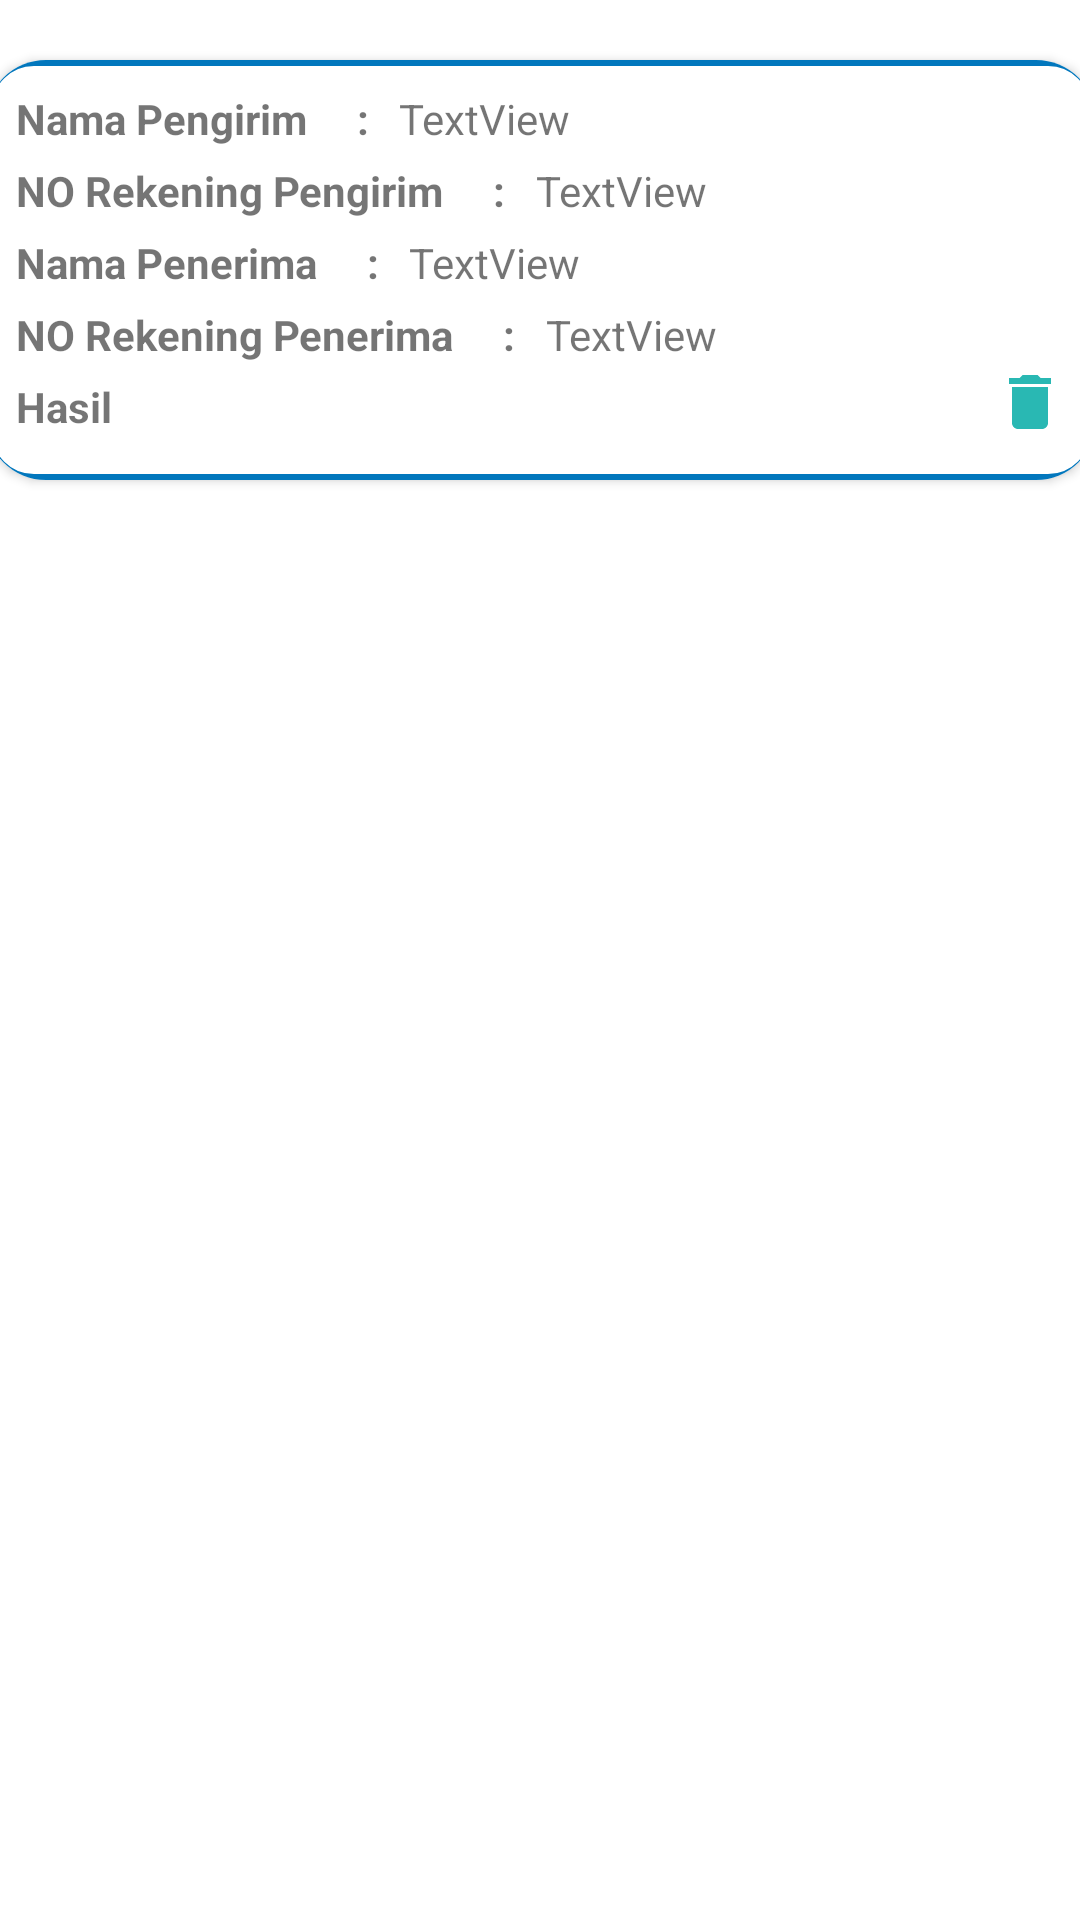

Icons on this 1080×1920 Android screen, each with its box as box(x1, y1, x2, y2):
delete: box(1009, 375, 1051, 429)
